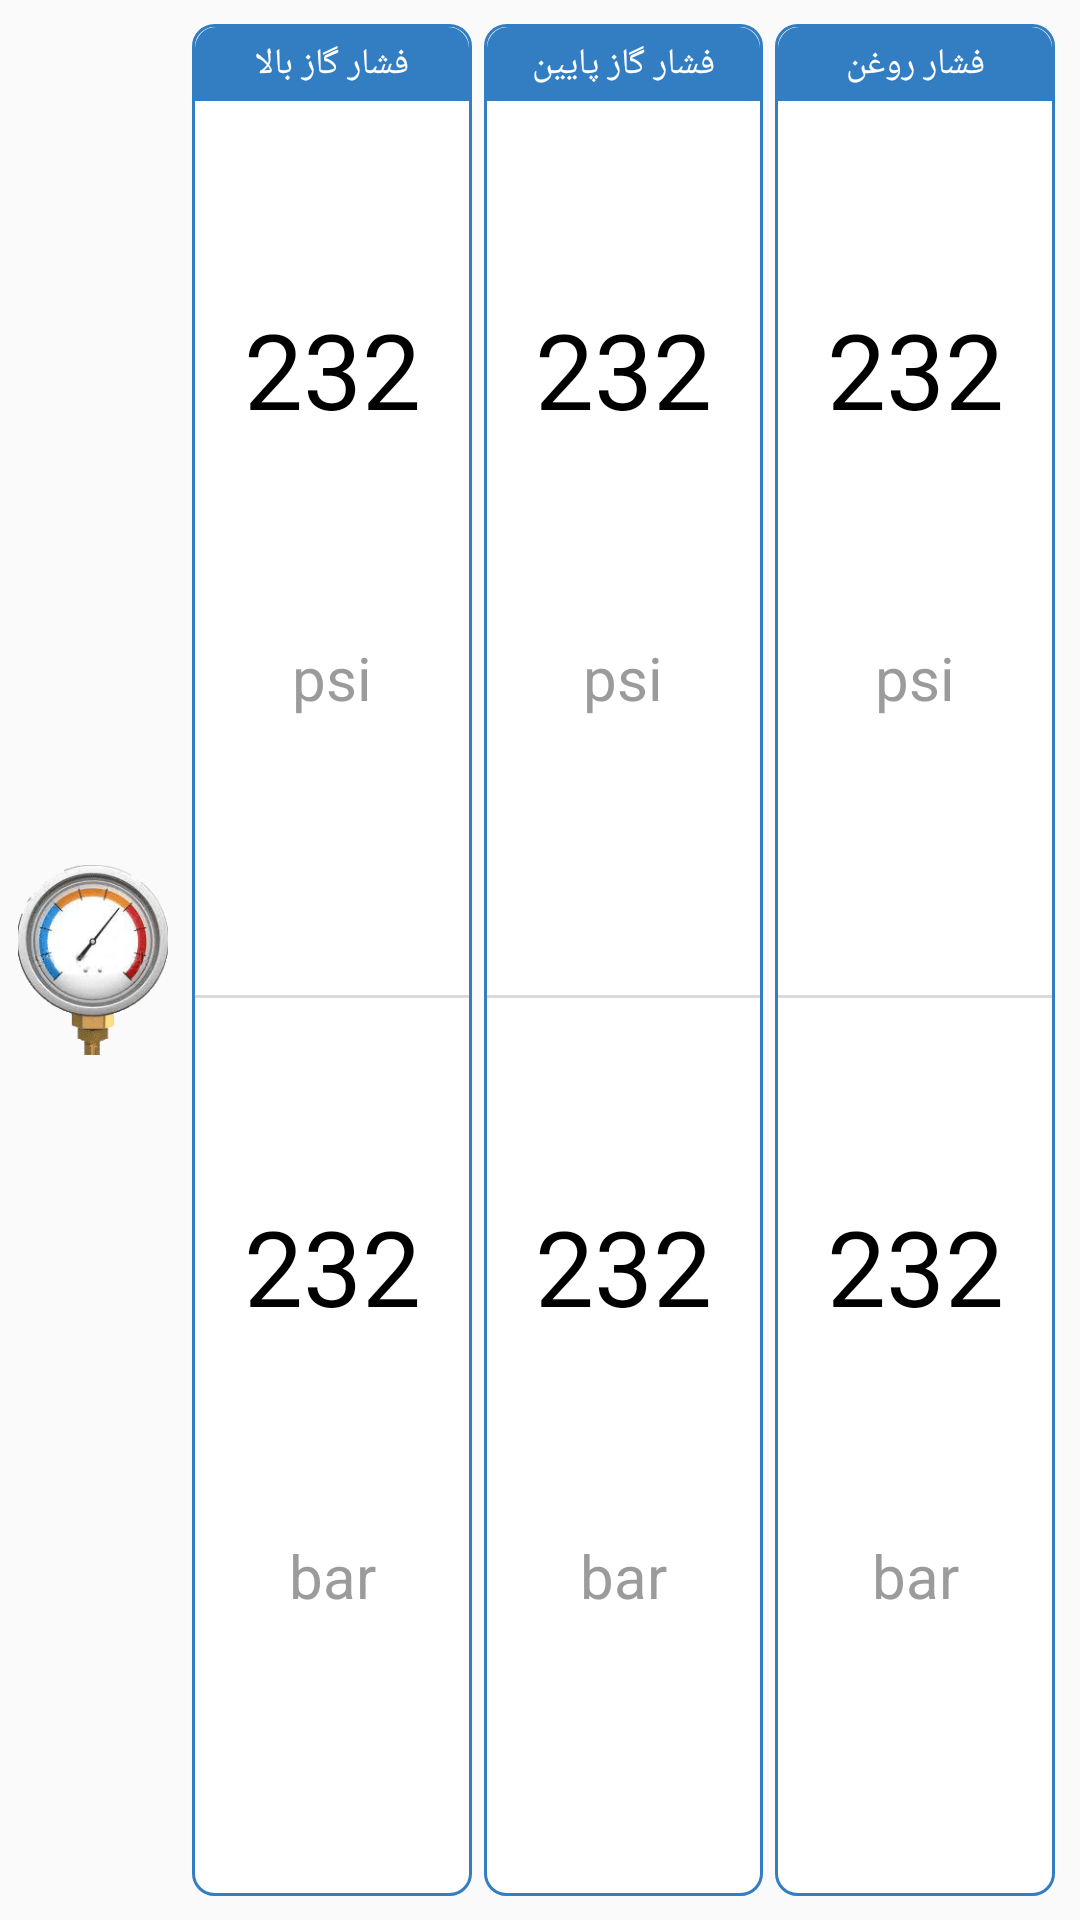

Screen size 1080*1920. Icon name, then its box in pixels as (x1, y1, x2, y2):
pressure: (18, 865, 168, 1055)
